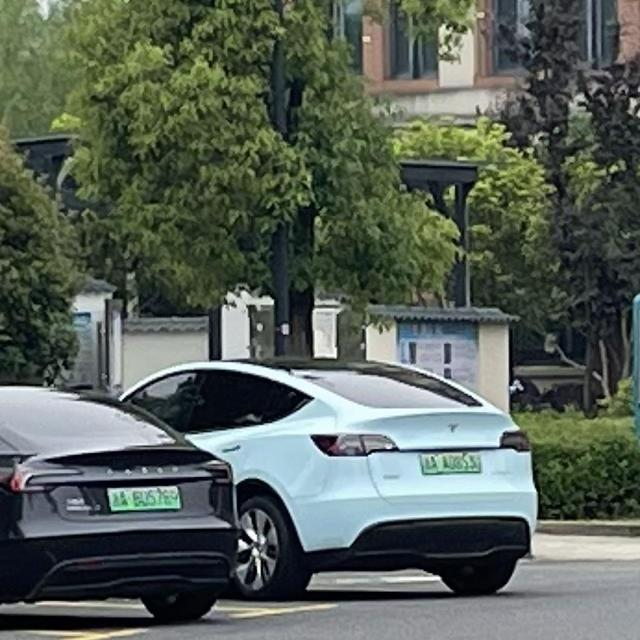curb: (537, 519, 639, 536)
